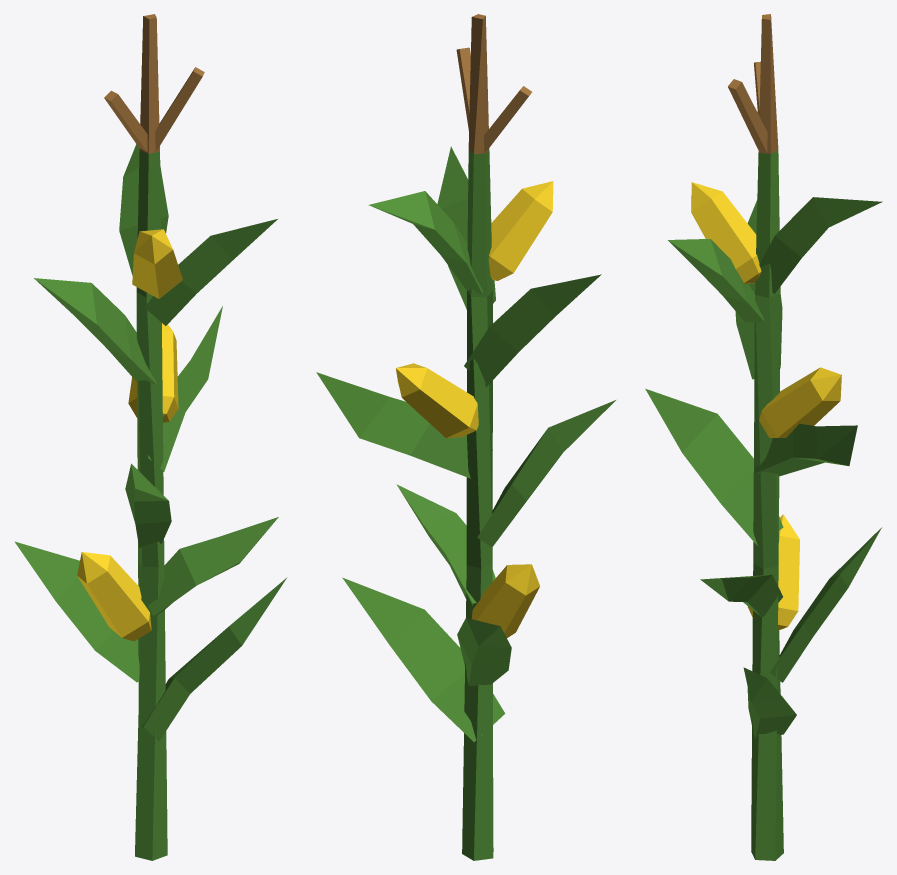
File: nature_corn-plant.fbx
3 views of the same model, side by side, from view 1: azimuth 30°, elevation 25°; view 2: azimuth 150°, elevation 25°; view 3: azimuth 270°, elevation 25° (orthographic).
Visible parts, largest first — view 1: nature_corn_plant; view 2: nature_corn_plant; view 3: nature_corn_plant.
Boxes of the visible parts, <box> form: nature_corn_plant: <box>14,14,287,860</box>; nature_corn_plant: <box>316,14,615,860</box>; nature_corn_plant: <box>645,14,882,860</box>.
Size of the model in its own units: 64.24 by 200 by 51.47.
